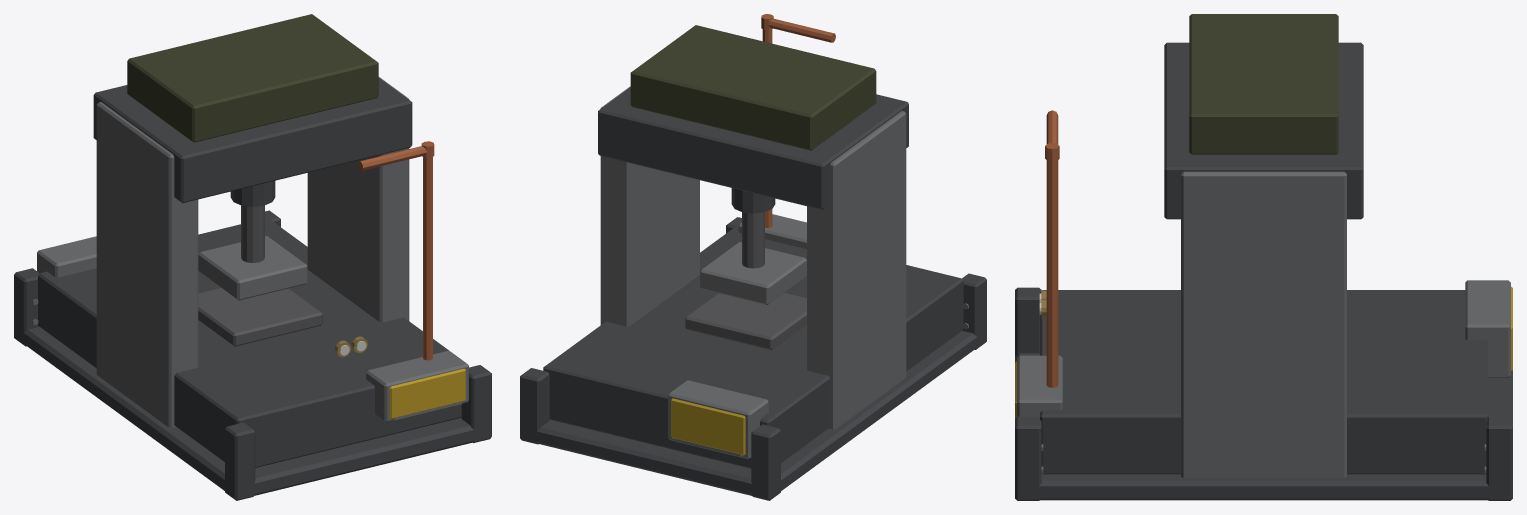
File: press_mk1.glb
The picture shows the model from 3 angles, left to right: view 1: azimuth 30°, elevation 25°; view 2: azimuth 150°, elevation 25°; view 3: azimuth 270°, elevation 25°; orthographic projection. The views are drawn at different scales.
Visible parts, largest first — view 1: press_mk1_CastIron, press_mk1_WeldedSteel, press_mk1_OliveDrab, press_mk1_OiledSteel, press_mk1_Copper, press_mk1_HazardYellow; view 2: press_mk1_CastIron, press_mk1_WeldedSteel, press_mk1_OliveDrab, press_mk1_OiledSteel, press_mk1_HazardYellow, press_mk1_Copper; view 3: press_mk1_CastIron, press_mk1_WeldedSteel, press_mk1_OliveDrab, press_mk1_Copper.
Part boxes in pixels (x1=…): press_mk1_CastIron: x1=14, y1=78, x2=491, y2=500; press_mk1_WeldedSteel: x1=32, y1=77, x2=468, y2=427; press_mk1_OliveDrab: x1=127, y1=14, x2=378, y2=142; press_mk1_OiledSteel: x1=198, y1=205, x2=322, y2=346; press_mk1_Copper: x1=358, y1=141, x2=434, y2=360; press_mk1_HazardYellow: x1=389, y1=368, x2=465, y2=419; press_mk1_CastIron: x1=520, y1=87, x2=986, y2=500; press_mk1_WeldedSteel: x1=600, y1=86, x2=968, y2=459; press_mk1_OliveDrab: x1=630, y1=25, x2=876, y2=150; press_mk1_OiledSteel: x1=685, y1=212, x2=806, y2=349; press_mk1_HazardYellow: x1=671, y1=398, x2=745, y2=455; press_mk1_Copper: x1=761, y1=14, x2=835, y2=227; press_mk1_CastIron: x1=1015, y1=42, x2=1512, y2=500; press_mk1_WeldedSteel: x1=1017, y1=171, x2=1511, y2=477; press_mk1_OliveDrab: x1=1189, y1=14, x2=1338, y2=154; press_mk1_Copper: x1=1045, y1=110, x2=1059, y2=387.
Bounding box in the file's own units: 4 × 4.89 × 6.
